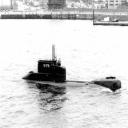submarine: (13, 43, 123, 91)
